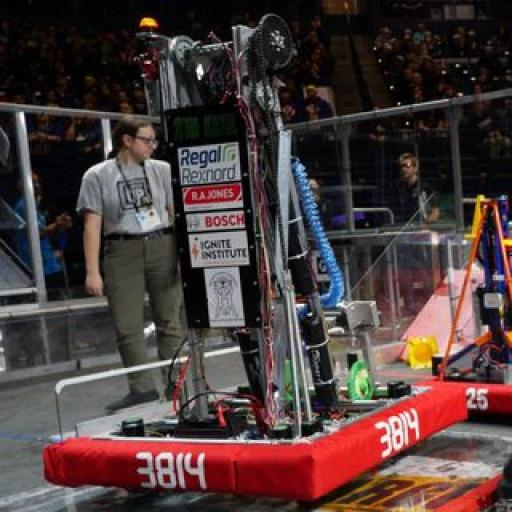robot: (34, 2, 477, 486), (415, 186, 512, 416)
